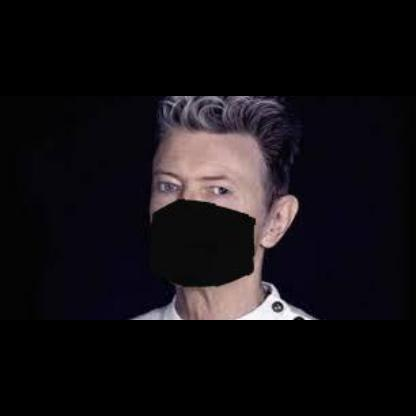Fabric/Cloth Mask: (141, 102, 293, 302)
